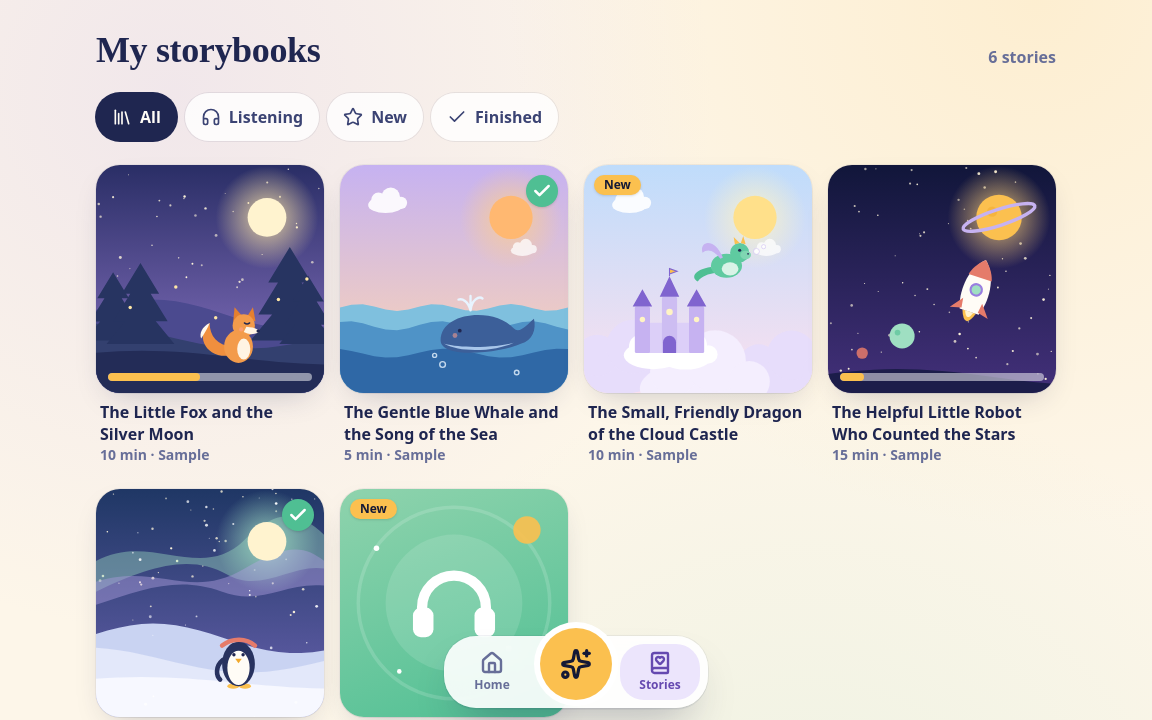
Library › filters storybooks by listening state
Click the radio button labelled "Finished" at (495, 117), box [431, 93, 558, 141]
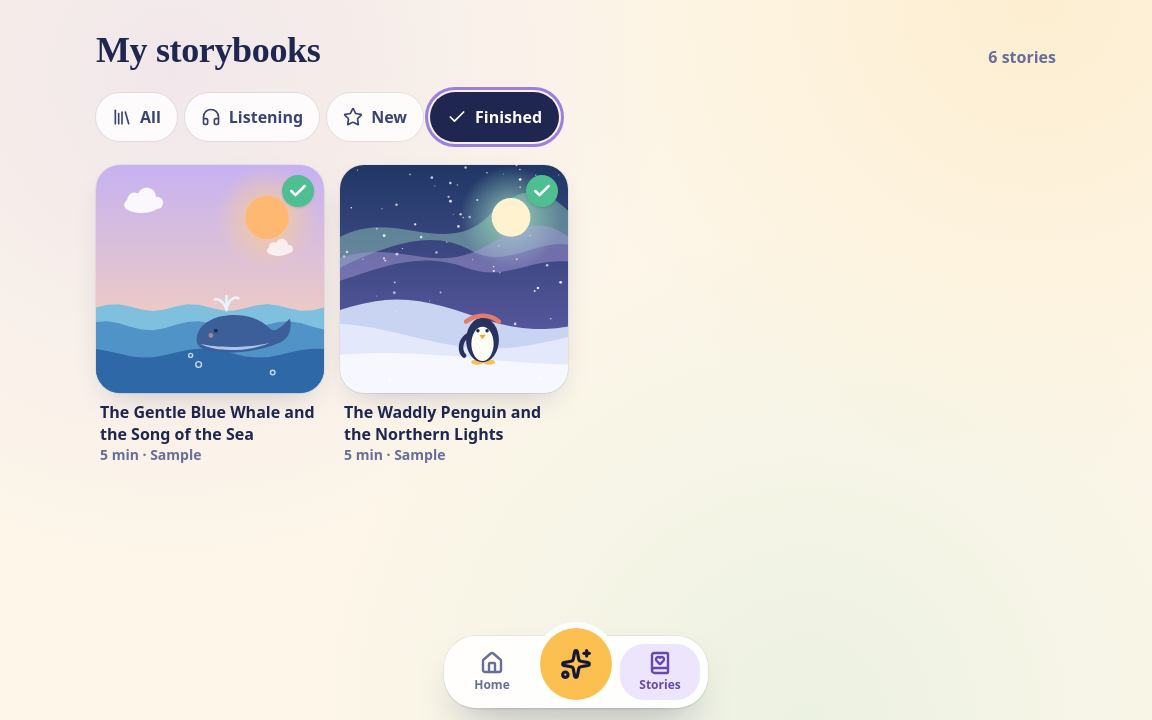
Now the number of list items is 2, box [96, 165, 324, 465]; [340, 165, 568, 465]
